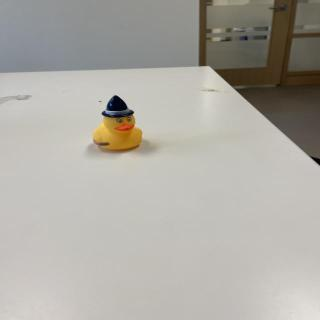duck_specialty: (92, 95, 146, 153)
